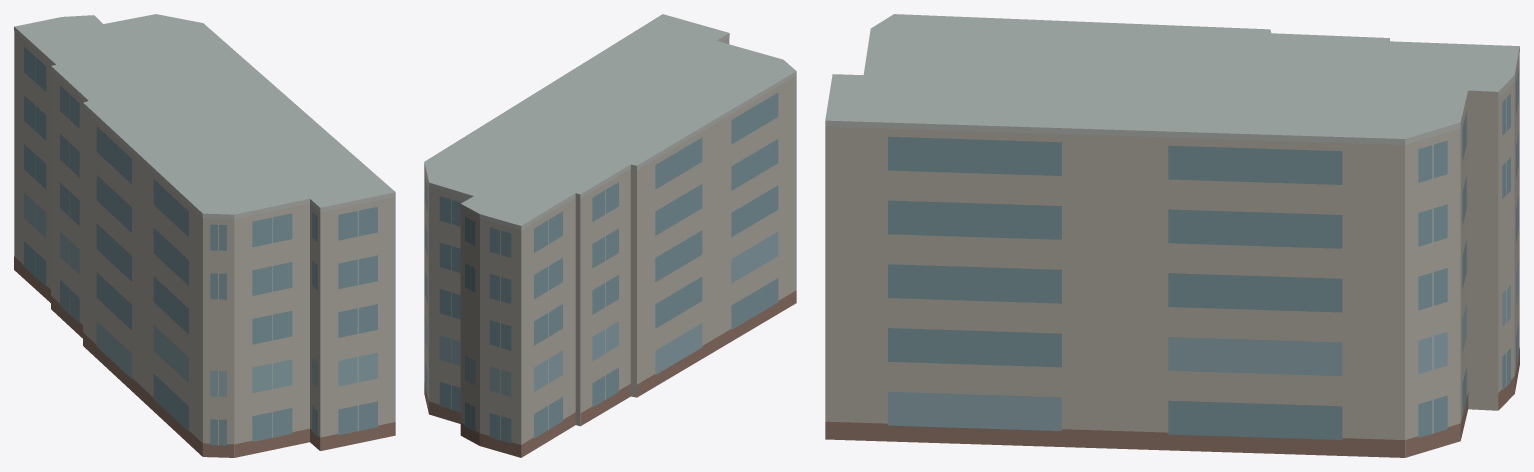
The model's file is survey-upis-32577707.glb.
3 renders of one model, left to right at view 1: azimuth 30°, elevation 25°; view 2: azimuth 150°, elevation 25°; view 3: azimuth 270°, elevation 25°, orthographic. The views are drawn at different scales.
Visible parts, largest first — view 1: survey-upis-32577707.tmp; view 2: survey-upis-32577707.tmp; view 3: survey-upis-32577707.tmp.
Part boxes in pixels (x1=…): survey-upis-32577707.tmp: x1=14, y1=14, x2=395, y2=457; survey-upis-32577707.tmp: x1=424, y1=14, x2=796, y2=457; survey-upis-32577707.tmp: x1=825, y1=14, x2=1519, y2=457.
Bounding box in the file's own units: 11.11 × 13.2 × 26.07.
